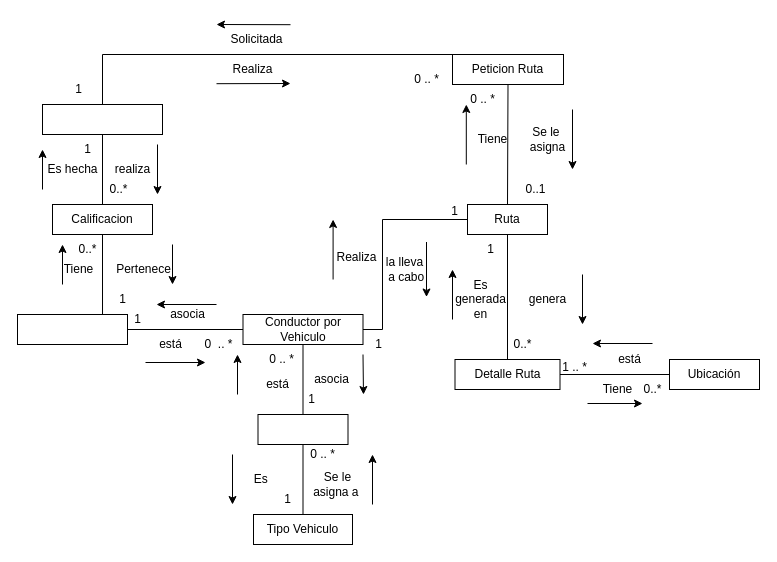
Some shapes in this 777 by 562 pixel diagram are drawn without their labels. Here are the shapes that lost their labels. From the top down, the box of each, then its label:
(42, 104, 162, 134): Cliente
(16, 314, 128, 344): Conductor
(257, 414, 348, 444): Vehiculo
